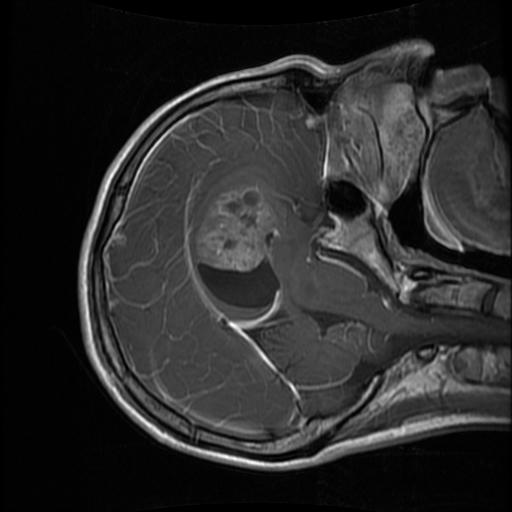glioma: (192, 185, 285, 309)
